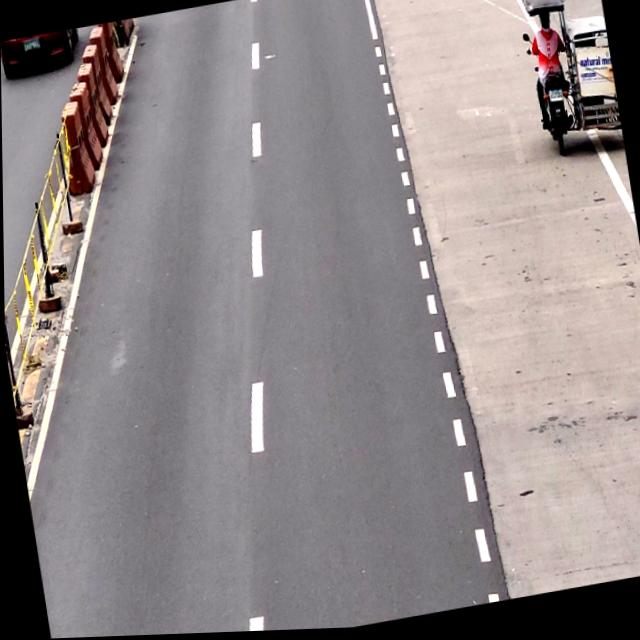License-Plate: (549, 94, 565, 108)
Tricycle: (519, 0, 624, 163)
